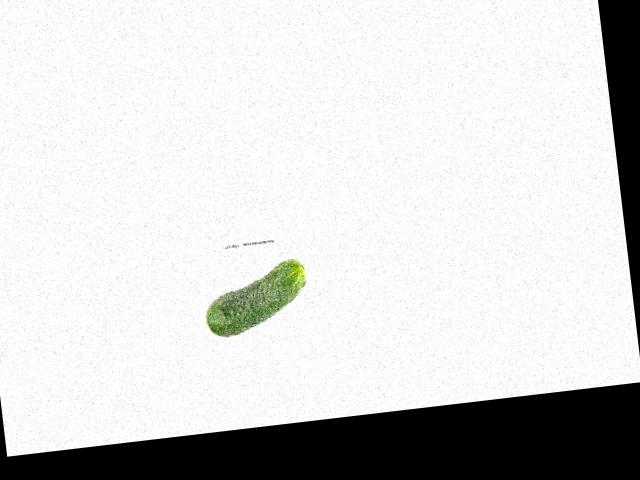cucumber: (199, 257, 311, 339)
